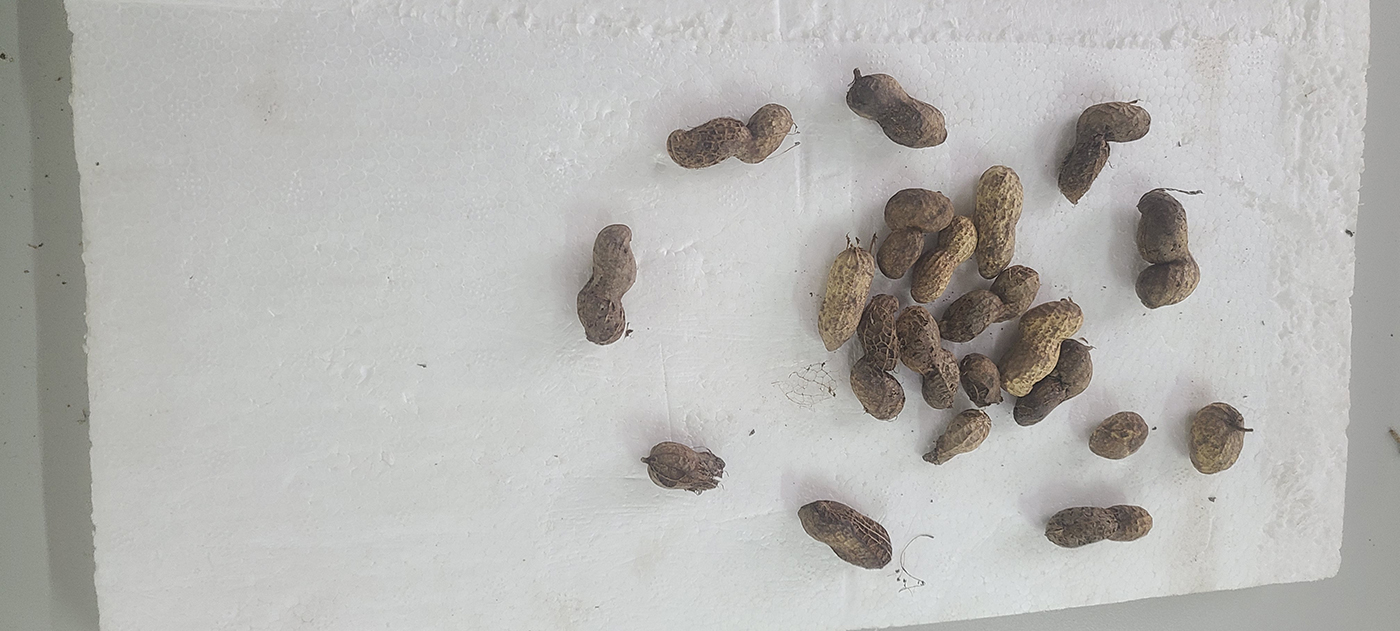l: (1057, 102, 1152, 205), (667, 103, 794, 170), (1000, 301, 1083, 396), (1134, 189, 1199, 309), (940, 266, 1040, 343), (846, 73, 948, 148), (576, 222, 638, 345), (1013, 338, 1093, 426), (850, 294, 905, 420), (896, 306, 959, 409), (799, 500, 892, 569), (816, 247, 876, 352), (910, 215, 978, 303), (973, 165, 1023, 279), (1043, 504, 1155, 548), (646, 442, 726, 494), (1189, 402, 1244, 473), (924, 408, 991, 466), (1088, 409, 1150, 460), (884, 188, 954, 232), (878, 229, 925, 278), (958, 354, 1002, 406)
